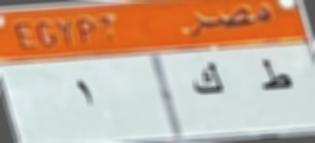1: (72, 76, 105, 115)
Taa: (255, 58, 296, 98)
kaaf: (185, 56, 233, 102)
